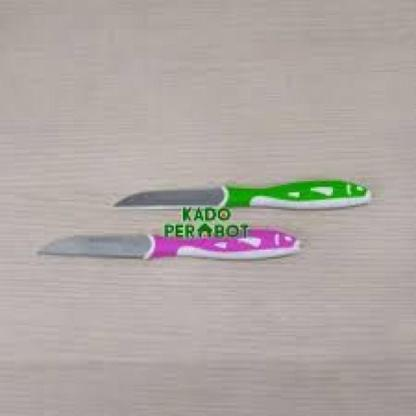Knife: (31, 131, 384, 288)
